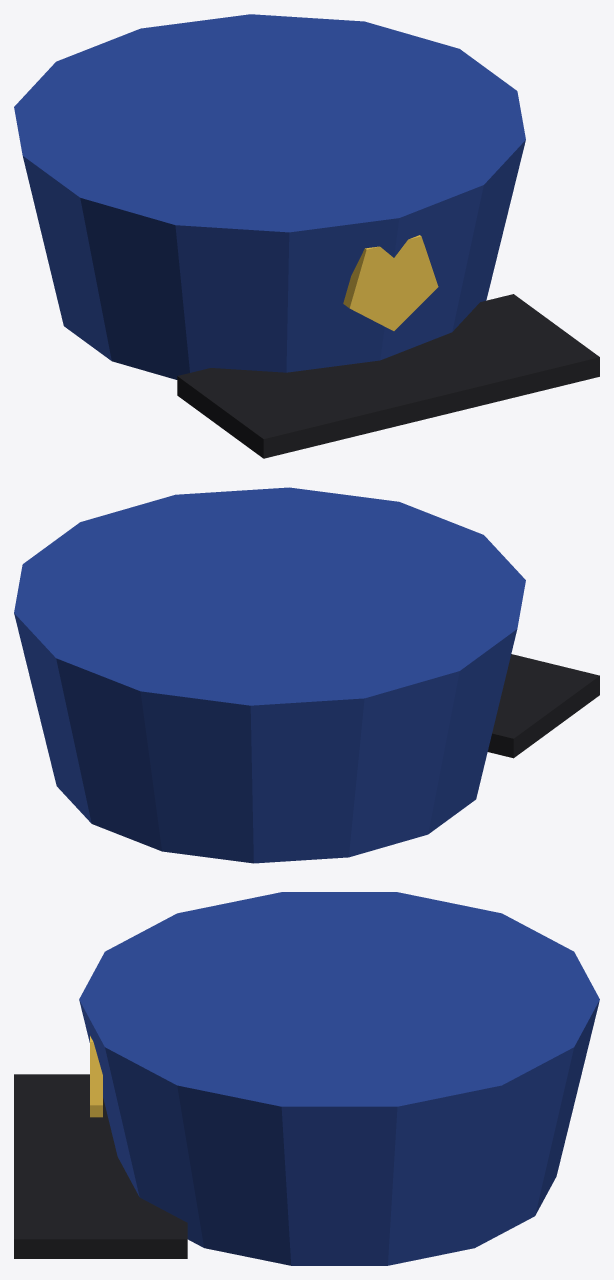
Rendered from toy_police_cap.glb.
3 views of the same model, one above another, from view 1: azimuth 30°, elevation 25°; view 2: azimuth 150°, elevation 25°; view 3: azimuth 270°, elevation 25° (orthographic).
Visible parts, largest first — view 1: crown_toycap_blue, visor_toycap_visor, star_toycap_star; view 2: crown_toycap_blue, visor_toycap_visor; view 3: crown_toycap_blue, visor_toycap_visor, star_toycap_star.
Part boxes in pixels (left/top/right/bottom): crown_toycap_blue: left=14, top=14, right=525, bottom=379; visor_toycap_visor: left=177, top=294, right=599, bottom=458; star_toycap_star: left=343, top=235, right=438, bottom=330; crown_toycap_blue: left=14, top=487, right=525, bottom=863; visor_toycap_visor: left=487, top=654, right=599, bottom=758; crown_toycap_blue: left=79, top=892, right=599, bottom=1265; visor_toycap_visor: left=14, top=1074, right=187, bottom=1258; star_toycap_star: left=90, top=1036, right=102, bottom=1117.
Bounding box in the file's own units: 0.234 × 0.09 × 0.27.
